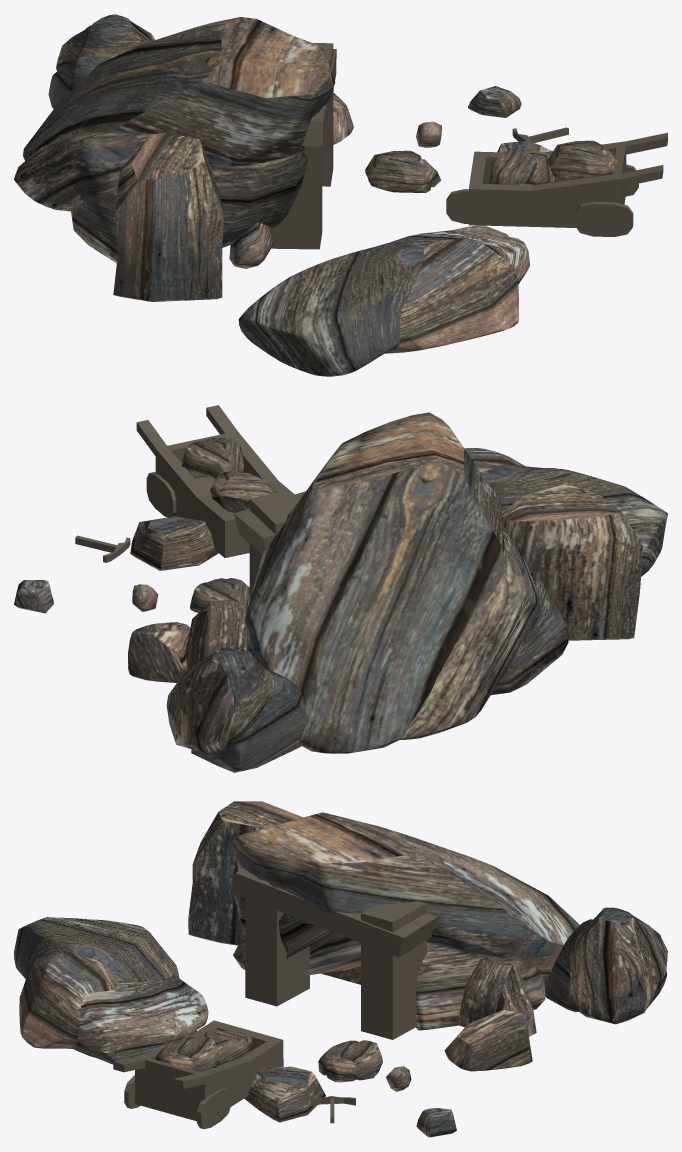
File: mine.glb
3 views of the same model, one above another, from view 1: azimuth 30°, elevation 25°; view 2: azimuth 150°, elevation 25°; view 3: azimuth 270°, elevation 25° (orthographic). The views are drawn at different scales.
Visible parts, largest first — view 1: Building; view 2: Building; view 3: Building.
Part boxes in pixels (x1,y1,x2,y2): Building: [14, 14, 667, 376]; Building: [14, 405, 667, 772]; Building: [14, 801, 667, 1137].
Bounding box in the file's own units: 4.08 × 1.41 × 4.71.
1 material, 1 textured.
